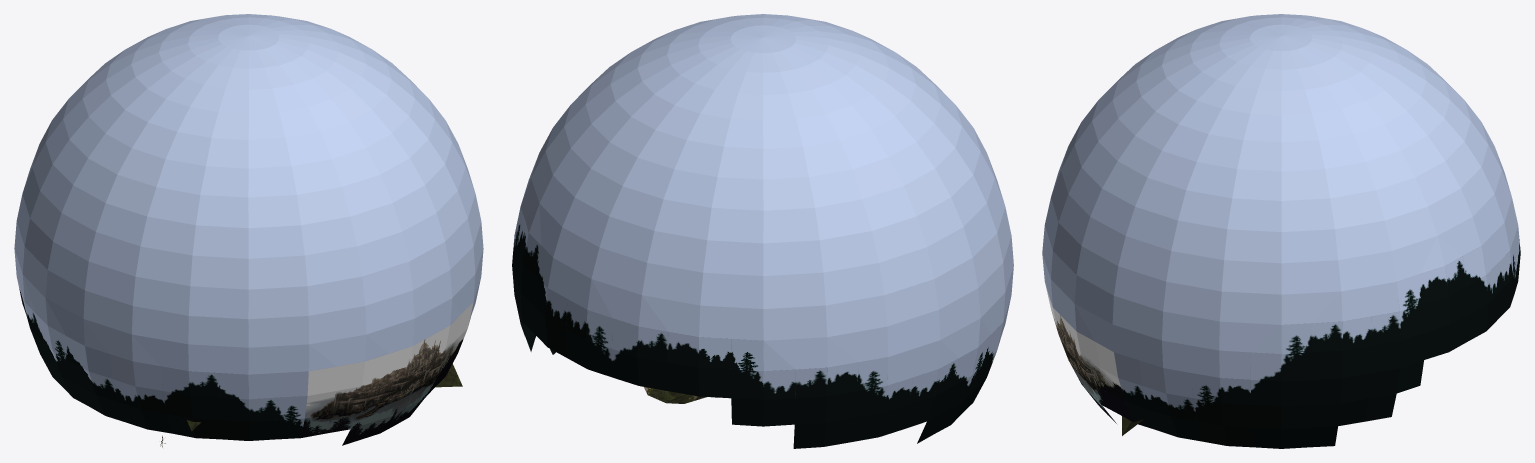
Rendered from MAP211.obj.
The picture shows the model from 3 angles, left to right: view 1: azimuth 30°, elevation 25°; view 2: azimuth 150°, elevation 25°; view 3: azimuth 270°, elevation 25°; orthographic projection. The views are drawn at different scales.
Visible parts, largest first — view 1: mesh_12, mesh_19, mesh_18, mesh_17, mesh_13, mesh_21, mesh_15, mesh_16, mesh_14; view 2: mesh_12, mesh_14; view 3: mesh_12, mesh_14, mesh_16, mesh_17, mesh_20.
Boxes of the visible parts, <box> form: mesh_12: <box>14,14,483,440</box>; mesh_19: <box>305,361,364,418</box>; mesh_18: <box>357,346,412,409</box>; mesh_17: <box>402,325,450,394</box>; mesh_13: <box>342,395,401,445</box>; mesh_21: <box>301,409,356,437</box>; mesh_15: <box>380,376,436,433</box>; mesh_16: <box>437,302,473,374</box>; mesh_14: <box>17,278,166,413</box>; mesh_12: <box>512,14,1013,448</box>; mesh_14: <box>518,220,912,412</box>; mesh_12: <box>1042,14,1520,448</box>; mesh_14: <box>1142,266,1448,416</box>; mesh_16: <box>1076,332,1125,401</box>; mesh_17: <box>1053,308,1089,381</box>; mesh_20: <box>1090,383,1134,421</box>.
Bounding box in the file's own units: 614 × 494 × 614.
Materials: 20 (20 with a texture image).
